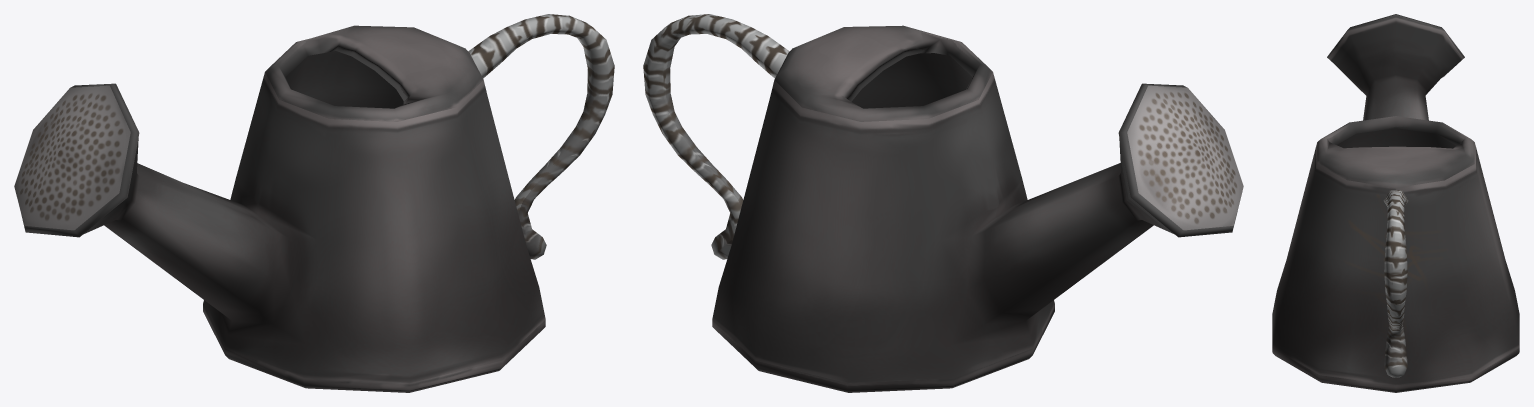
File: SurvivalTools_WateringCan.fbx
3 views of the same model, side by side, from view 1: azimuth 30°, elevation 25°; view 2: azimuth 150°, elevation 25°; view 3: azimuth 270°, elevation 25° (orthographic). The views are drawn at different scales.
Parts seen in each view (by area): view 1: WateringCan_MDL; view 2: WateringCan_MDL; view 3: WateringCan_MDL.
Part boxes in pixels (<box>): WateringCan_MDL: <box>14,14,614,392</box>; WateringCan_MDL: <box>643,14,1243,392</box>; WateringCan_MDL: <box>1272,14,1519,392</box>.
Bounding box in the file's own units: 17.86 × 8.81 × 8.64.
